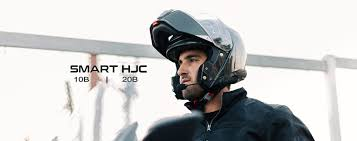com_capacete: (147, 3, 250, 110)
